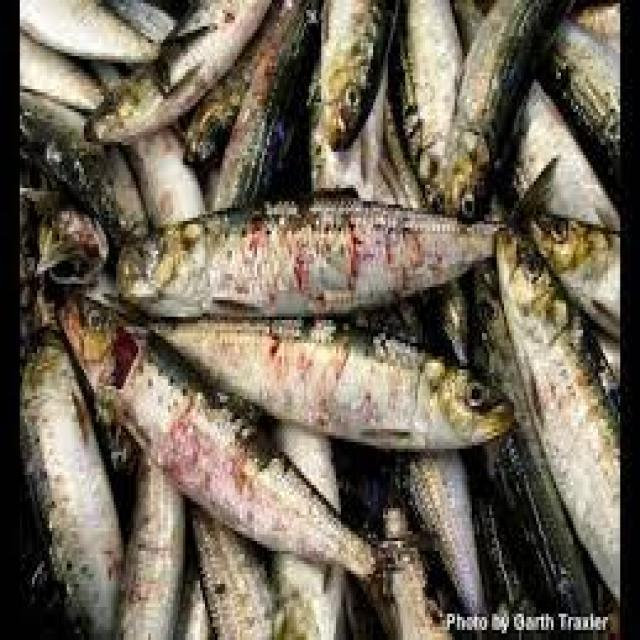EUS Disease: (22, 4, 620, 639), (109, 369, 319, 541), (204, 208, 466, 317), (214, 323, 460, 433), (25, 409, 121, 634), (516, 333, 620, 516), (168, 0, 264, 72)
